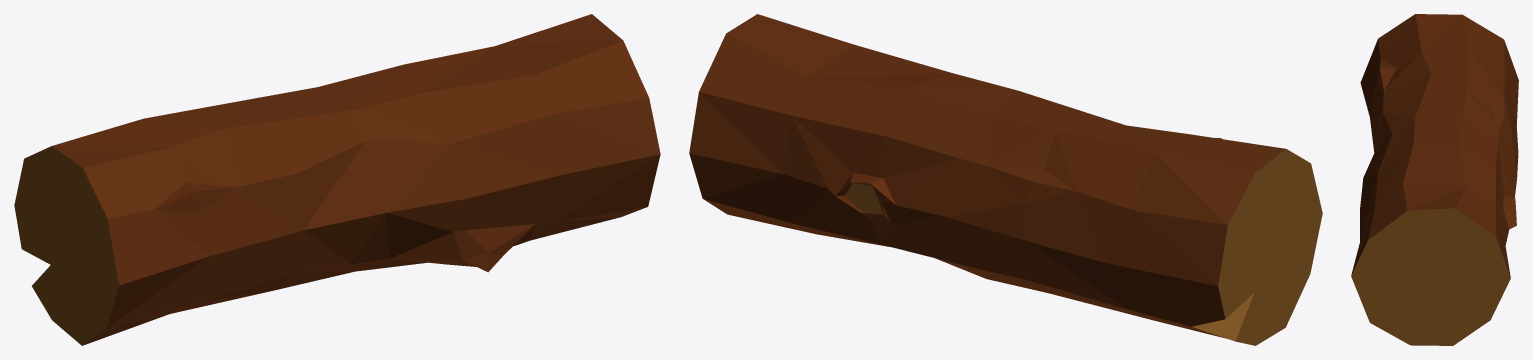
File: LogC.fbx
The picture shows the model from 3 angles, left to right: view 1: azimuth 30°, elevation 25°; view 2: azimuth 150°, elevation 25°; view 3: azimuth 270°, elevation 25°; orthographic projection. The views are drawn at different scales.
Parts seen in each view (by area): view 1: LogC; view 2: LogC; view 3: LogC.
Boxes of the visible parts, x1,y1,x2,y2 form: LogC: (14,14,660,345); LogC: (689,14,1322,345); LogC: (1351,14,1518,345).
Bounding box in the file's own units: 109 × 35.59 × 39.18.
